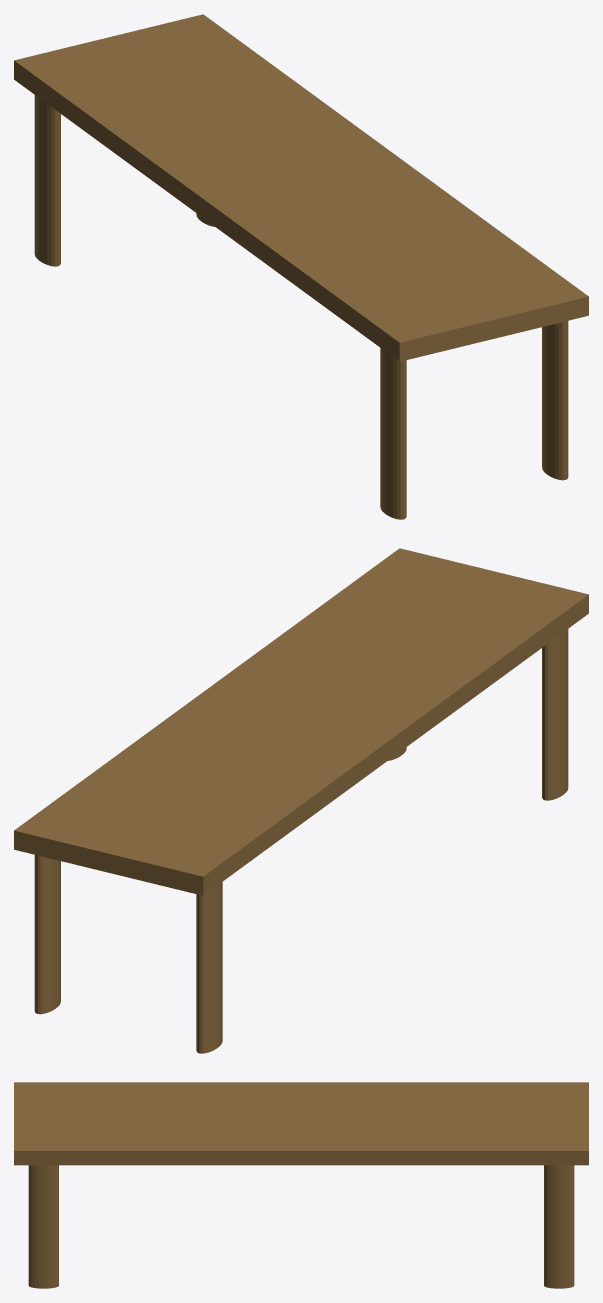
The model's file is bench.glb.
3 renders of one model, top to bottom at view 1: azimuth 30°, elevation 25°; view 2: azimuth 150°, elevation 25°; view 3: azimuth 270°, elevation 25°, orthographic. The views are drawn at different scales.
Visible parts, largest first — view 1: Mesh_Mesh_head_geo.001_lambert2SG.001; view 2: Mesh_Mesh_head_geo.001_lambert2SG.001; view 3: Mesh_Mesh_head_geo.001_lambert2SG.001.
Boxes of the visible parts, x1,y1,x2,y2 form: Mesh_Mesh_head_geo.001_lambert2SG.001: (14,14,588,519); Mesh_Mesh_head_geo.001_lambert2SG.001: (14,548,588,1053); Mesh_Mesh_head_geo.001_lambert2SG.001: (14,1082,588,1288).
Bounding box in the file's own units: 0.0264 × 0.025 × 0.0933.
